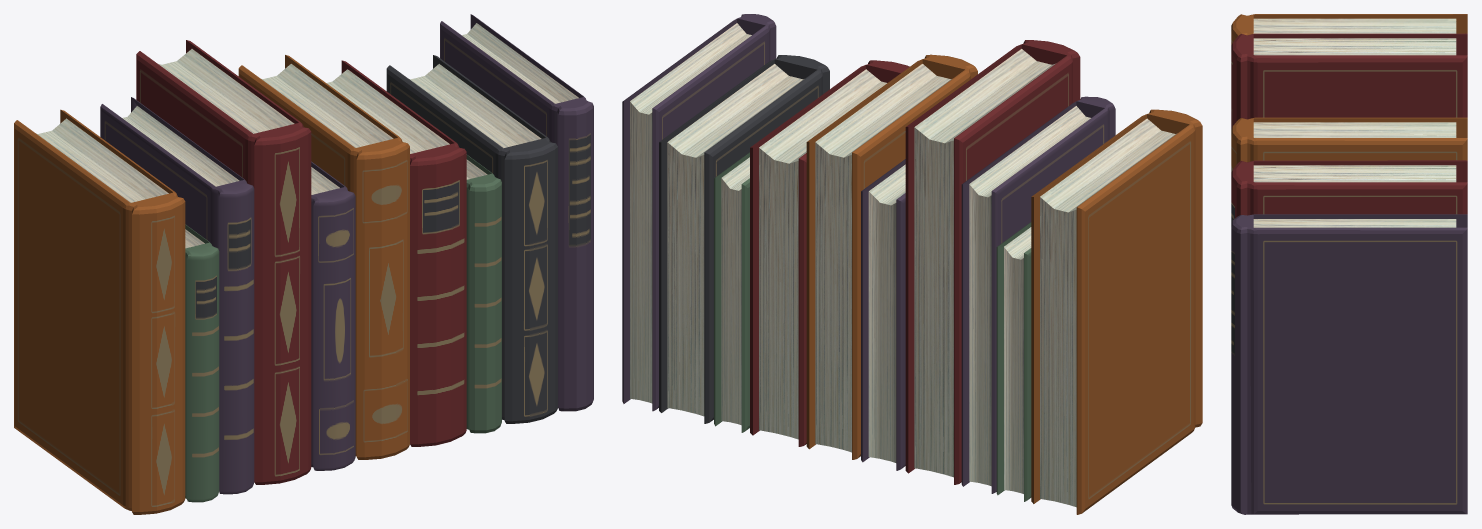
File: BookstackSideways.fbx
3 views of the same model, side by side, from view 1: azimuth 30°, elevation 25°; view 2: azimuth 150°, elevation 25°; view 3: azimuth 270°, elevation 25° (orthographic). The views are drawn at different scales.
Parts seen in each view (by area): view 1: bookblue6, bookblue5, bookblue, bookblue3, bookblue1, bookblue7, bookblue2, bookblue9, bookblue4, bookblue8; view 2: bookblue6, bookblue5, bookblue, bookblue3, bookblue1, bookblue7, bookblue2, bookblue9, bookblue4, bookblue8; view 3: bookblue2, bookblue5, bookblue1, bookblue, bookblue6.
Part boxes in pixels (x1,y1,x2,y2): bookblue6: (14, 109, 185, 514); bookblue5: (136, 40, 311, 484); bookblue: (238, 55, 409, 459); bookblue3: (386, 55, 557, 423); bookblue1: (326, 60, 466, 446); bookblue7: (100, 97, 254, 494); bookblue2: (440, 14, 593, 411); bookblue9: (311, 161, 355, 470); bookblue4: (466, 154, 501, 433); bookblue8: (185, 224, 219, 502); bookblue6: (1031, 109, 1202, 514); bookblue5: (905, 40, 1080, 484); bookblue: (806, 54, 977, 459); bookblue3: (659, 55, 829, 423); bookblue1: (750, 60, 909, 446); bookblue7: (961, 96, 1115, 493); bookblue2: (622, 14, 776, 411); bookblue9: (861, 159, 905, 470); bookblue4: (714, 152, 749, 432); bookblue8: (996, 222, 1031, 501); bookblue2: (1231, 214, 1467, 514); bookblue5: (1231, 33, 1467, 128); bookblue1: (1231, 160, 1467, 222); bookblue: (1231, 117, 1467, 171); bookblue6: (1231, 14, 1467, 44).
Size of the model in its own units: 5.97 by 4.28 by 2.8.
Materials: 10 (10 with a texture image).
